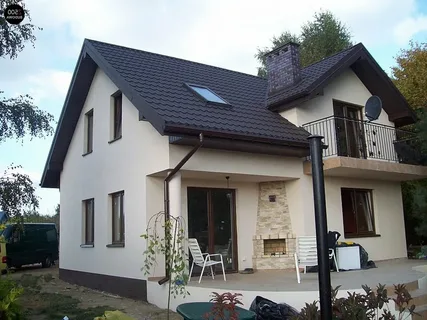private_hause: (65, 43, 412, 264)
